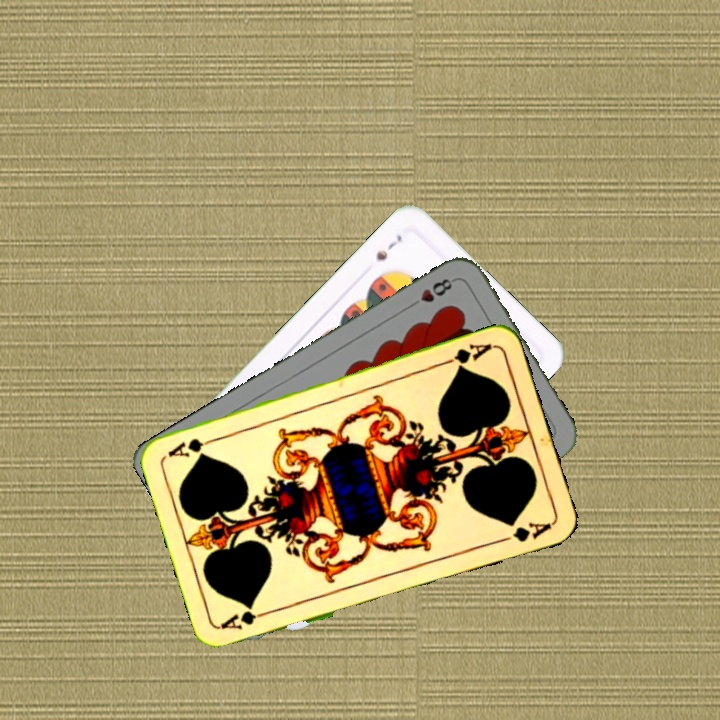GA: (439, 339, 496, 372), (217, 604, 276, 633)
H8: (405, 274, 458, 311)
S7: (372, 230, 405, 264)
